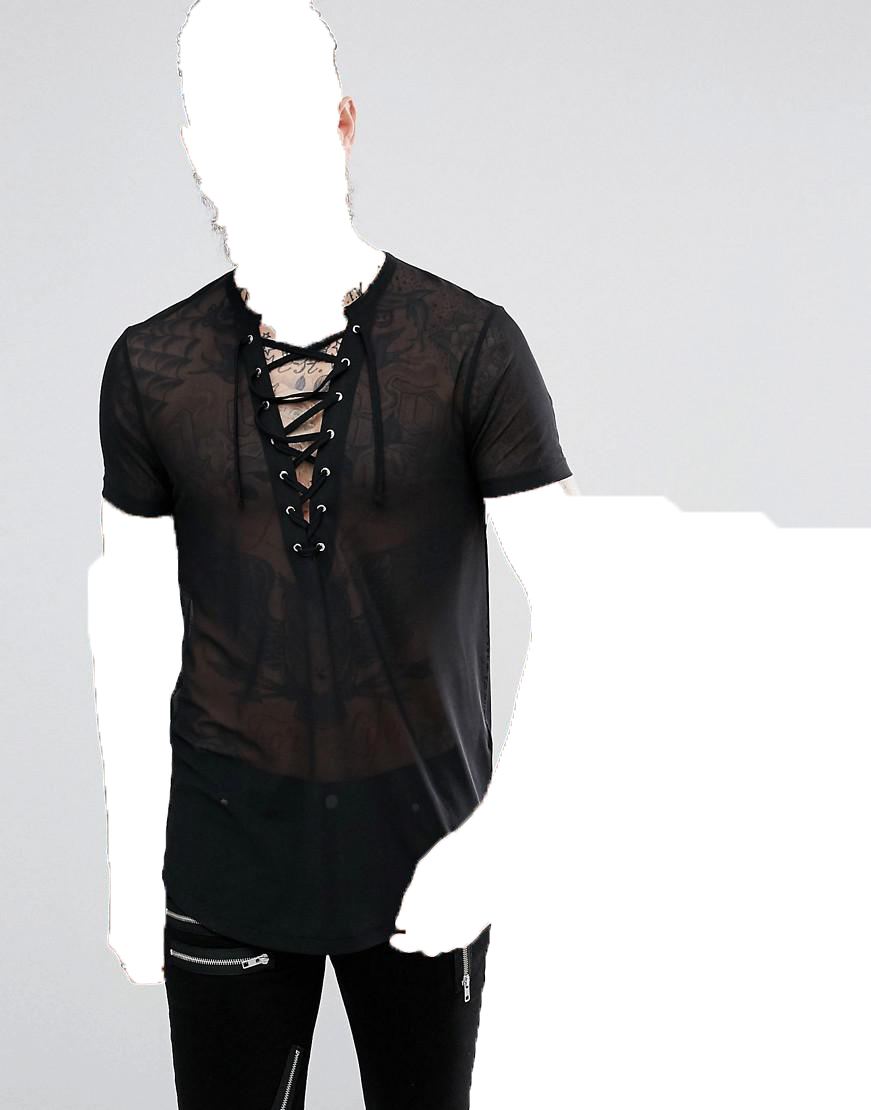teeshirt: (74, 252, 566, 949)
